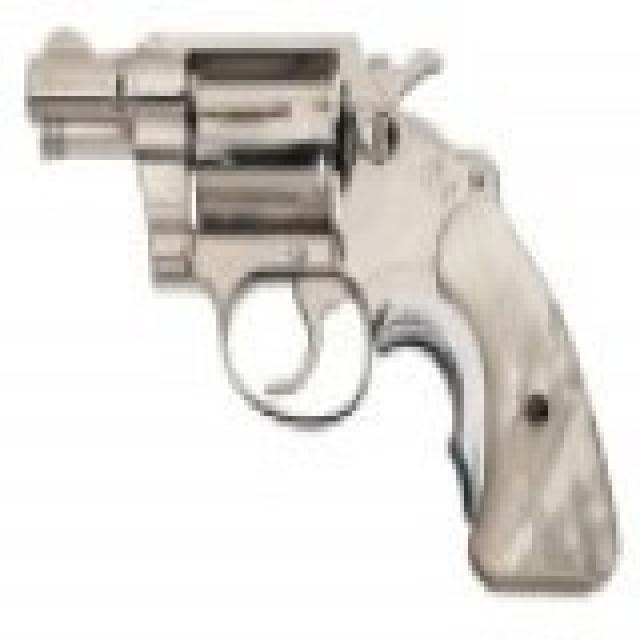Gun: (19, 14, 623, 592)
